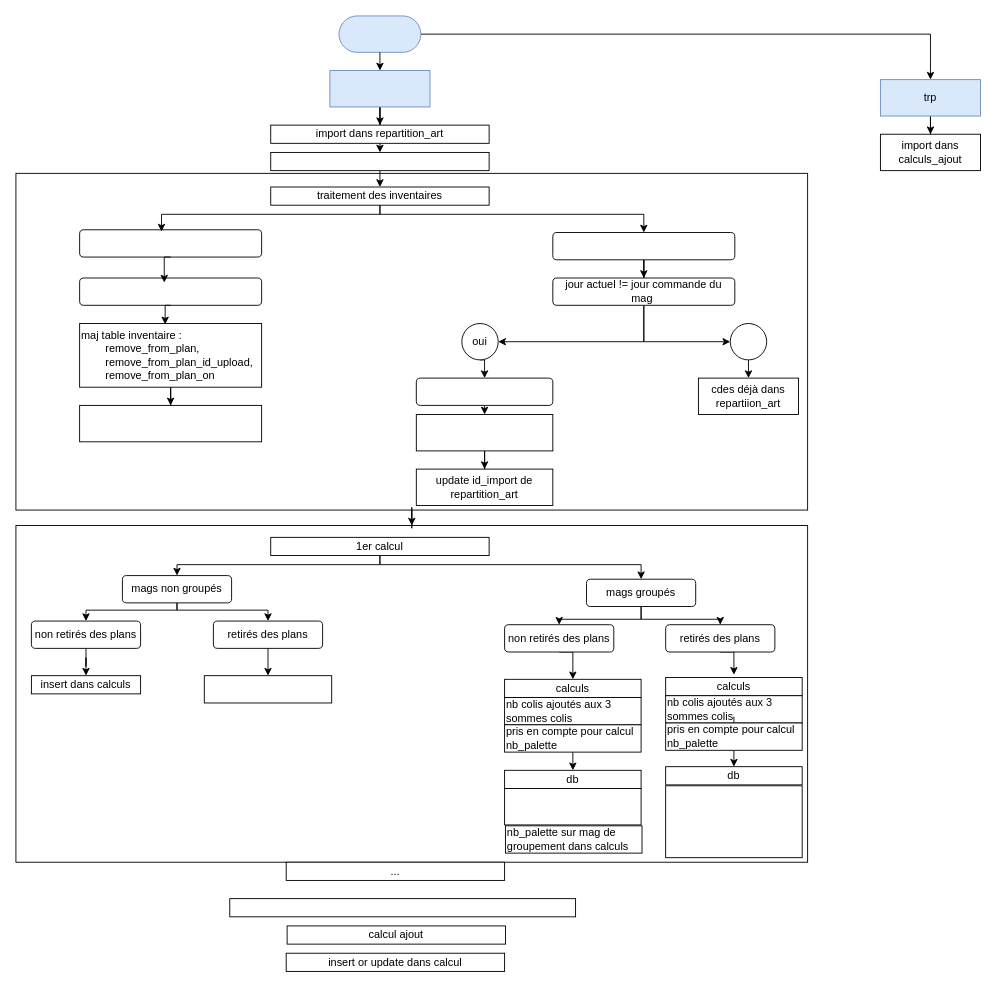
Image size: 996x987. Some labels were removed from this diagram. Here are the shapes that lost their labels. From the top down, the centre of each, then its label:
At (379,33): "upload des fichiers gael".
At (379,88): "export previ".
At (379,161): "vérification des codelec".
At (170,243): "mags en inventaire ce jour".
At (643,246): "mags retirés des plans".
At (170,291): "demande de retrait des plans".
At (748,341): "non".
At (484,391): "demande reintégration des cdes".
At (170,423): "copie ligne repartition_art dans repartition_art_inventaire".
At (484,432): "copie repartition_art_inventaire dans repartition_art".
At (267,689): "insert dans calculs_ajouts_inventaire".
At (572,806): "sommes colis dans calculs_detail_ptliv pour chaque mag".
At (733,821): "sommes colis et nb_palette dans calculs_ajouts_inventaire".
At (402,907): "dernier calcul = calcul + histo + calcul ajout + découpage + ordre".
